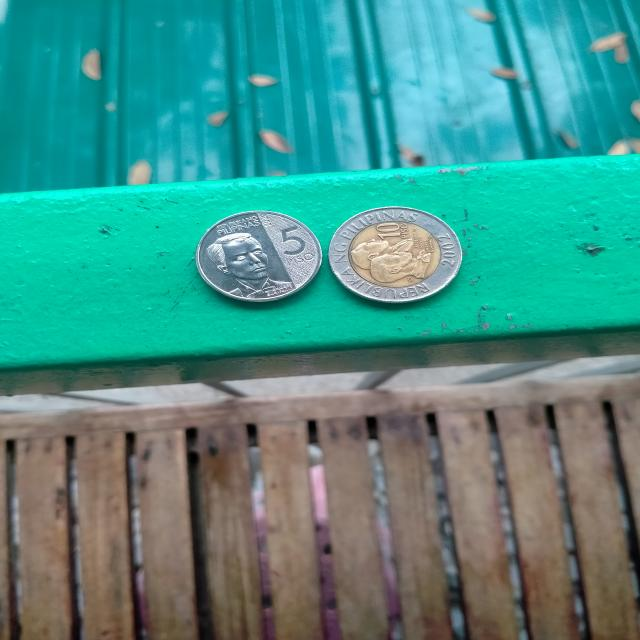10_Old_Front: (336, 209, 460, 300)
5_New_Front: (204, 214, 315, 303)
